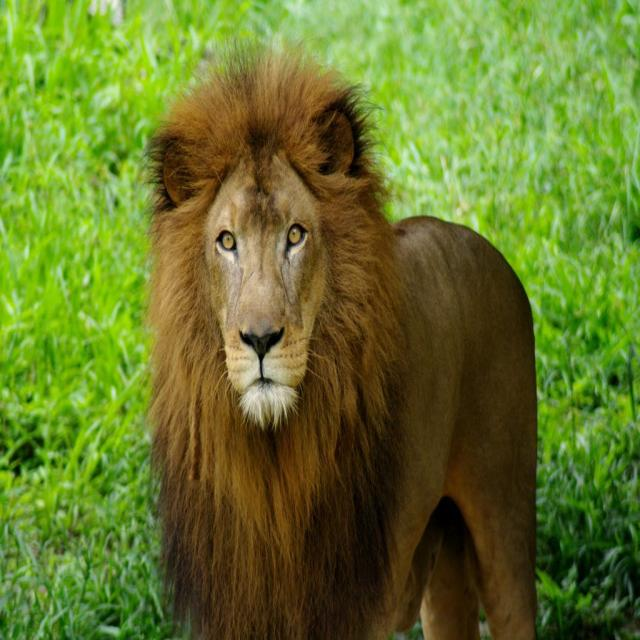lion: (99, 44, 458, 595)
